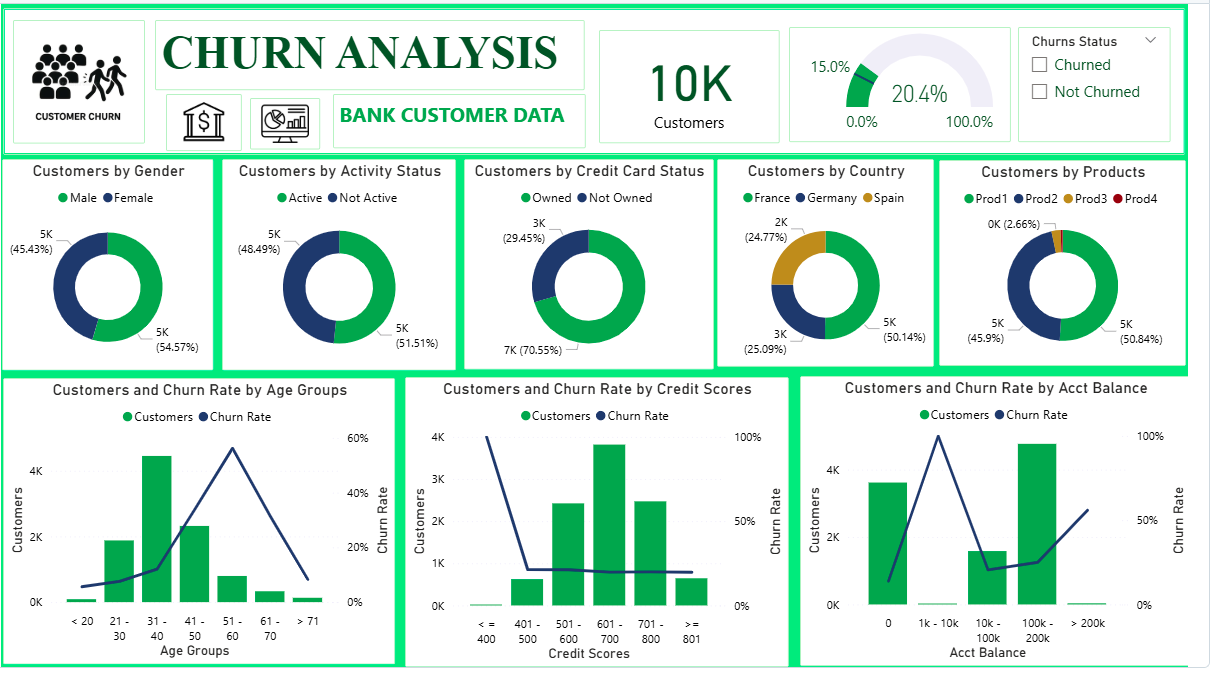

Layout of this report page (visuals, bound fields, positions):
{"tool":"powerbi","page":{"name":"Page 1","canvas":[1280,720],"ordinal":0},"visuals":[{"type":"shape","box":[6.9,13.8,1263.5,156.9],"z":0},{"type":"card","fields":{"Values":["Customer Data.Customers"]},"box":[642.7,36.9,192.7,121.2],"z":1000},{"type":"donutChart","fields":{"Category":["Customer Data.Gender"],"Y":["Customer Data.Customers"]},"box":[5.8,175.4,226.2,226.2],"z":2000},{"type":"donutChart","fields":{"Category":["Customer Data.Activity Status"],"Y":["Customer Data.Customers"]},"box":[240,175.4,250.4,226.2],"z":3000},{"type":"donutChart","fields":{"Y":["Customer Data.Customers"],"Category":["Customer Data.Credit Card Status"]},"box":[498.5,175.4,266.5,225],"z":4000},{"type":"donutChart","fields":{"Y":["Customer Data.Customers"],"Category":["Customer Data.Country"]},"box":[769.6,175.4,231.9,222],"z":5000},{"type":"donutChart","fields":{"Y":["Customer Data.Customers"],"Category":["Customer Data.Products"]},"box":[1006.2,176.5,264.2,220.4],"z":6000},{"type":"lineClusteredColumnComboChart","fields":{"Category":["Age Groups.Age Groups"],"Y":["Customer Data.Customers"],"Y2":["Customer Data.Churn Rate"]},"box":[6.9,409.6,418.8,305.8],"z":7000},{"type":"lineClusteredColumnComboChart","fields":{"Y":["Customer Data.Customers"],"Y2":["Customer Data.Churn Rate"],"Category":["Credit Score Groups.Credit Scores"]},"box":[436.2,408.5,409.6,310.4],"z":8000},{"type":"slicer","fields":{"Values":["Customer Data.Churns Status"]},"box":[1090.4,34.6,162.7,123.5],"z":9000},{"type":"gauge","fields":{"Y":["Customer Data.Churn Rate"],"MinValue":["Min(Customer Data.Min Churn Rate)"],"MaxValue":["Max(Customer Data.Max Churn Rate)"],"TargetValue":["Max(Customer Data.Target Churn Rate)"]},"box":[845.8,34.6,236.5,123.5],"z":10000},{"type":"lineClusteredColumnComboChart","fields":{"Y":["Customer Data.Customers"],"Y2":["Customer Data.Churn Rate"],"Category":["Acct Balance Groups.Acct Balance"]},"box":[857.3,407.3,417.7,310.4],"z":11000},{"type":"textbox","box":[168.5,26.5,459.2,75],"z":12000},{"type":"textbox","box":[358.8,106.2,270,57.7],"z":13000},{"type":"image","box":[17.3,26.5,140.8,131.5],"z":14000},{"type":"image","box":[180,106.2,80.8,61.2],"z":15000},{"type":"image","box":[270,109.6,75,55.4],"z":16000}]}

Visuals, with their boxes in screenshot pixels (x1, y1, x2, y2), scaled from the page's 1280x720 canvas onto the 1214x673 screenshot:
shape: select_region(7, 13, 1205, 160)
card - Customer Data.Customers: select_region(610, 34, 792, 148)
donutChart - Customer Data.Gender x Customer Data.Customers: select_region(6, 164, 220, 375)
donutChart - Customer Data.Activity Status x Customer Data.Customers: select_region(228, 164, 465, 375)
donutChart - Customer Data.Customers x Customer Data.Credit Card Status: select_region(473, 164, 726, 374)
donutChart - Customer Data.Customers x Customer Data.Country: select_region(730, 164, 950, 371)
donutChart - Customer Data.Customers x Customer Data.Products: select_region(954, 165, 1205, 371)
lineClusteredColumnComboChart - Age Groups.Age Groups x Customer Data.Customers: select_region(7, 383, 404, 669)
lineClusteredColumnComboChart - Customer Data.Customers x Customer Data.Churn Rate: select_region(414, 382, 802, 672)
slicer - Customer Data.Churns Status: select_region(1034, 32, 1188, 148)
gauge - Customer Data.Churn Rate x Min(Customer Data.Min Churn Rate): select_region(802, 32, 1026, 148)
lineClusteredColumnComboChart - Customer Data.Customers x Customer Data.Churn Rate: select_region(813, 381, 1209, 671)
textbox: select_region(160, 25, 595, 95)
textbox: select_region(340, 99, 596, 153)
image: select_region(16, 25, 150, 148)
image: select_region(171, 99, 247, 156)
image: select_region(256, 102, 327, 154)
